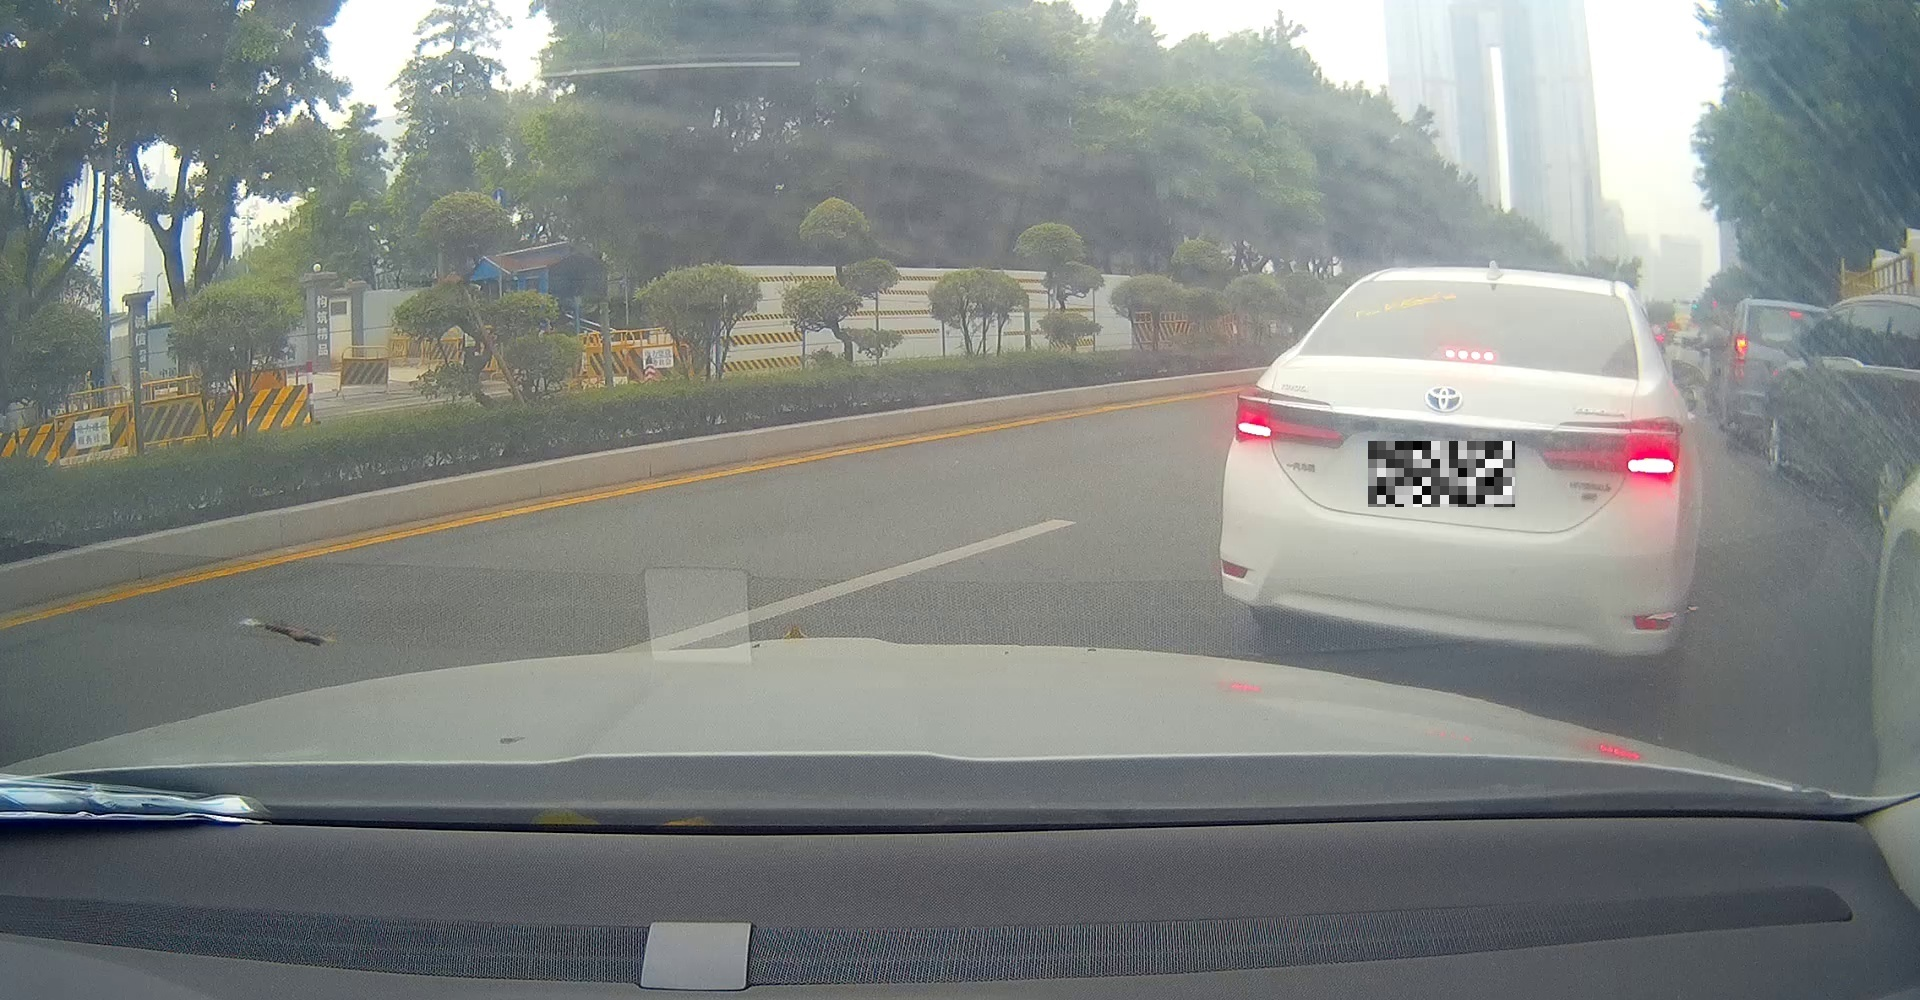L_light: (1230, 383, 1352, 451)
R_light: (1535, 418, 1683, 478)
T_light: (1436, 346, 1497, 362)
day-brake: (1217, 264, 1702, 669)
plate_1: (1368, 442, 1515, 508)
